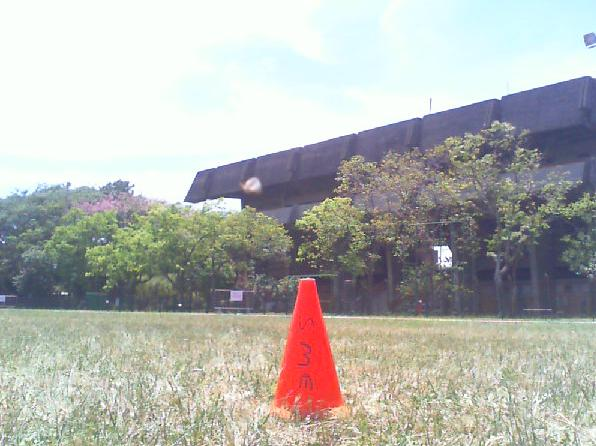0 cone: (268, 278, 348, 420)
